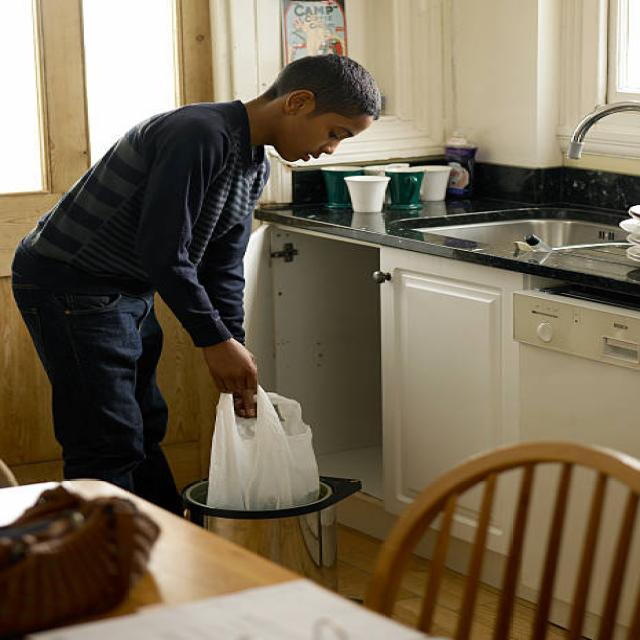trash: (200, 370, 322, 508)
